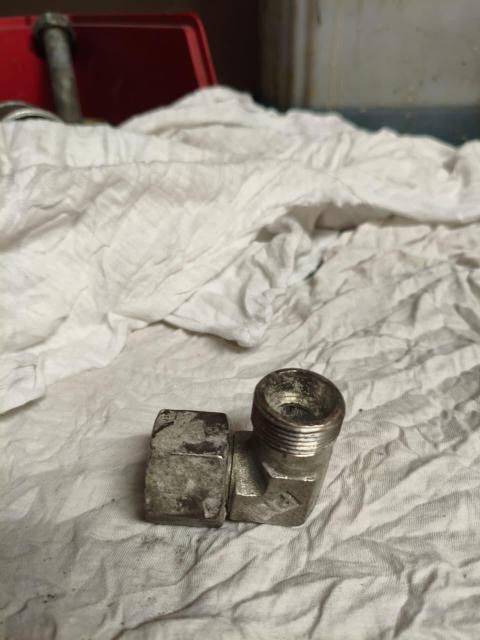Metal: (147, 367, 352, 523), (238, 370, 323, 528), (155, 420, 227, 523)
